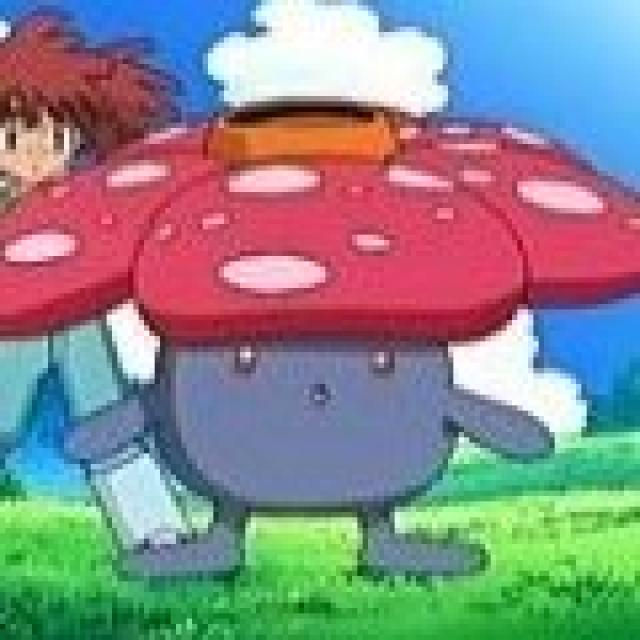Vileplume: (91, 98, 508, 578)
